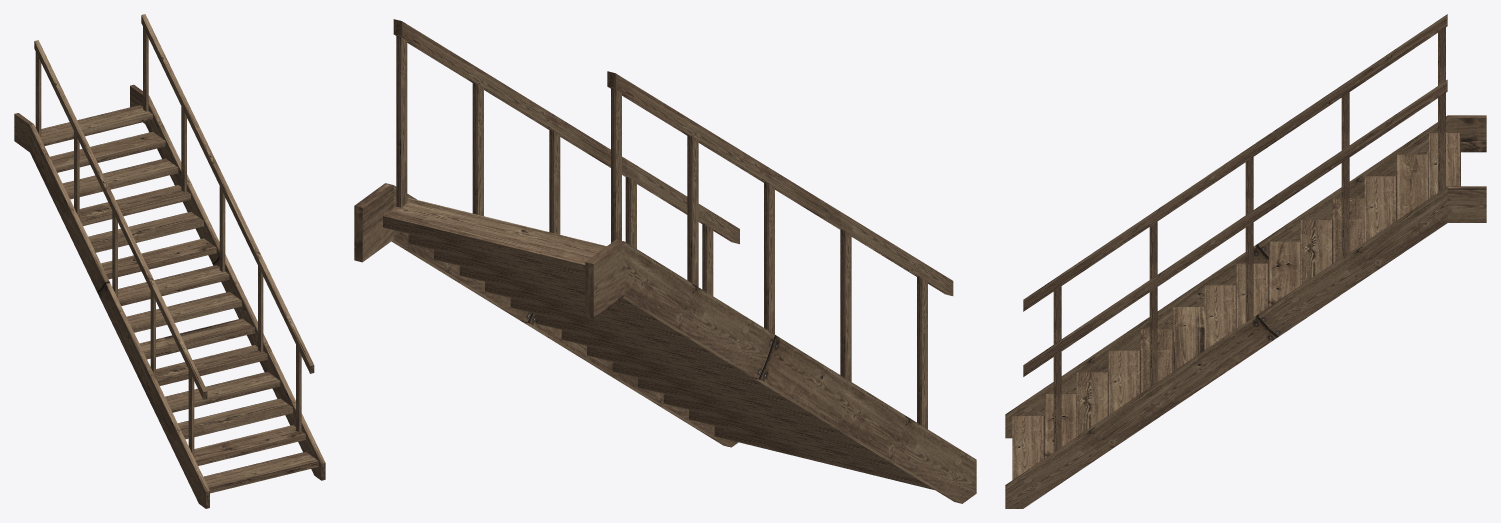
Rendered from standaloneStaircase.dae.
3 views of the same model, side by side, from view 1: azimuth 30°, elevation 25°; view 2: azimuth 150°, elevation 25°; view 3: azimuth 270°, elevation 25° (orthographic). The views are drawn at different scales.
Parts seen in each view (by area): view 1: Staircase; view 2: Staircase; view 3: Staircase.
Part boxes in pixels (x1=…): Staircase: x1=14, y1=14, x2=325, y2=508; Staircase: x1=354, y1=19, x2=976, y2=503; Staircase: x1=1005, y1=14, x2=1486, y2=508.
Size of the model in its own units: 1.44 by 3.9 by 4.01.
Materials: 1 (1 with a texture image).
